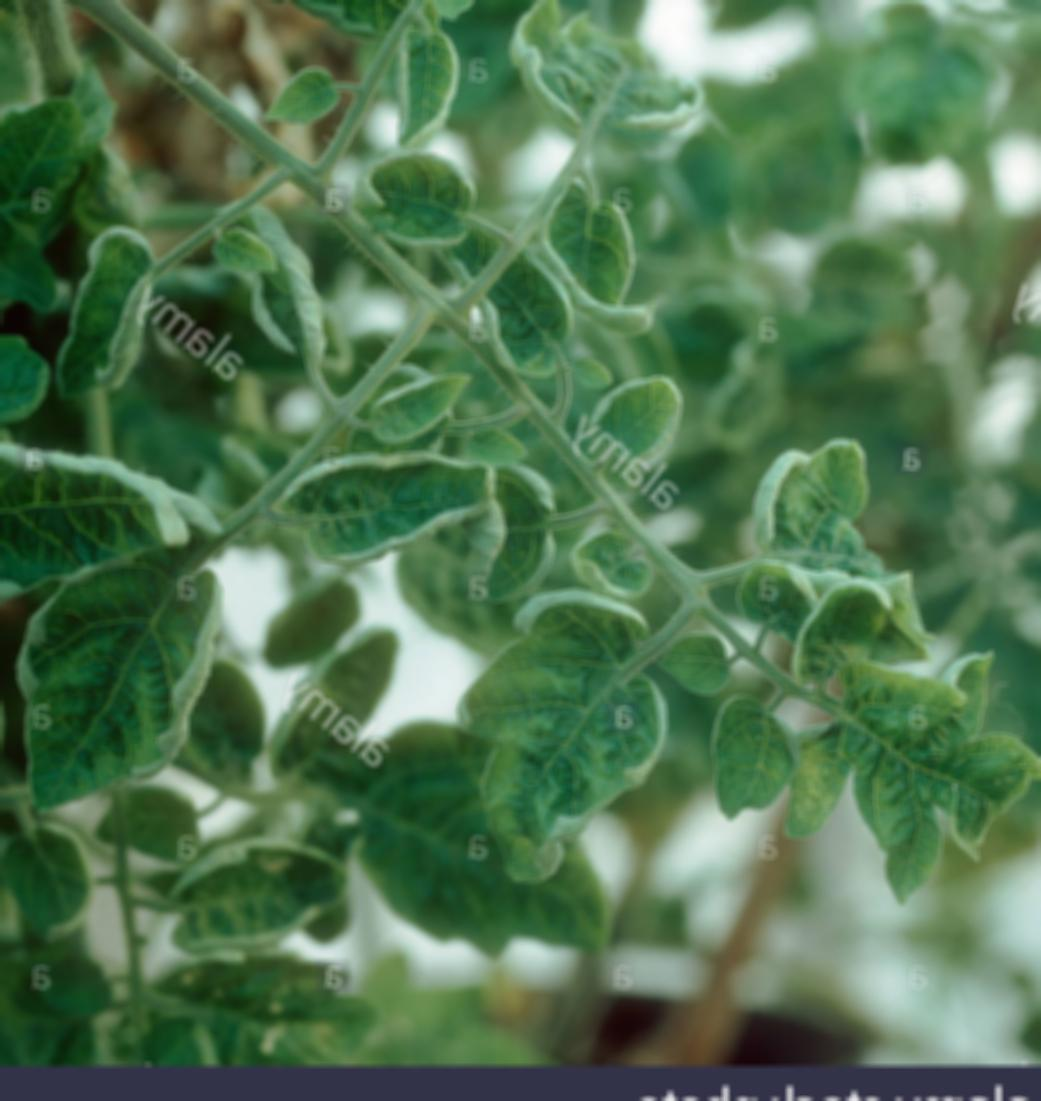Tomato leaf yellow virus: (443, 585, 681, 907), (0, 376, 225, 684), (806, 613, 1041, 902), (24, 535, 230, 806), (689, 424, 924, 634), (385, 183, 571, 398), (252, 447, 505, 588), (521, 0, 693, 202), (52, 209, 216, 412), (519, 361, 784, 460)
